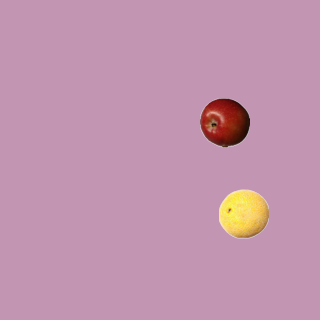Apple Braeburn: (199, 97, 249, 147)
Cantaloupe 1: (218, 188, 268, 238)
